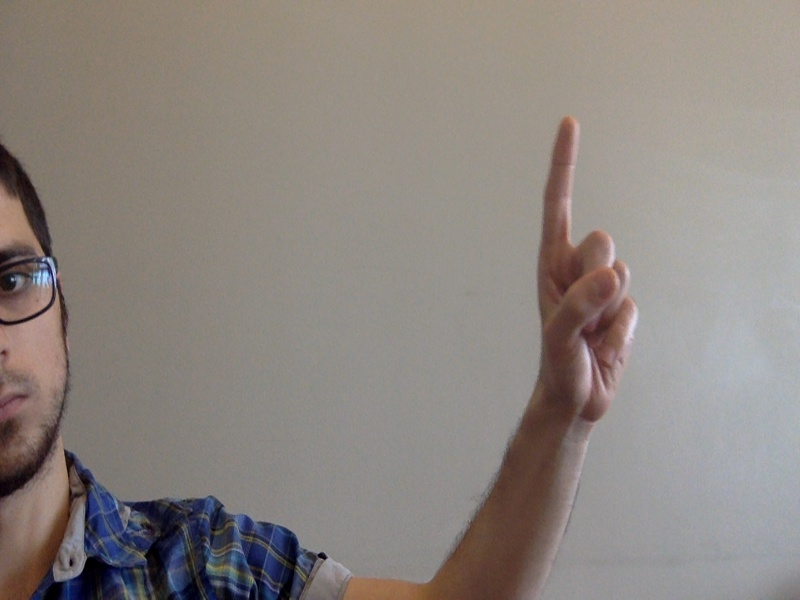1-hand: (536, 118, 636, 423)
